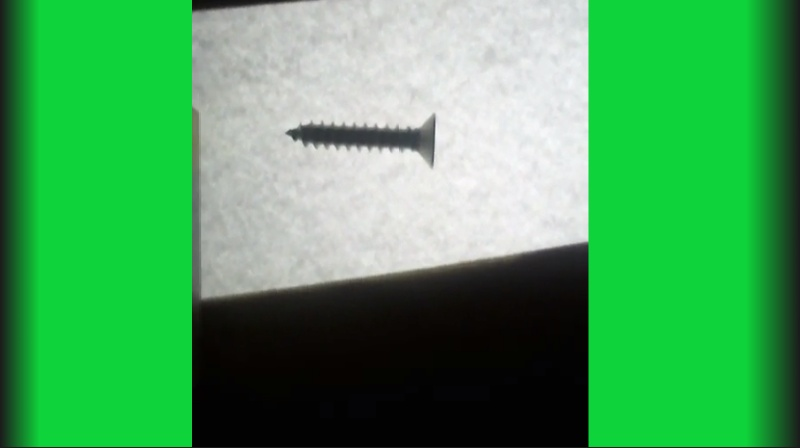S001: (282, 113, 439, 170)
